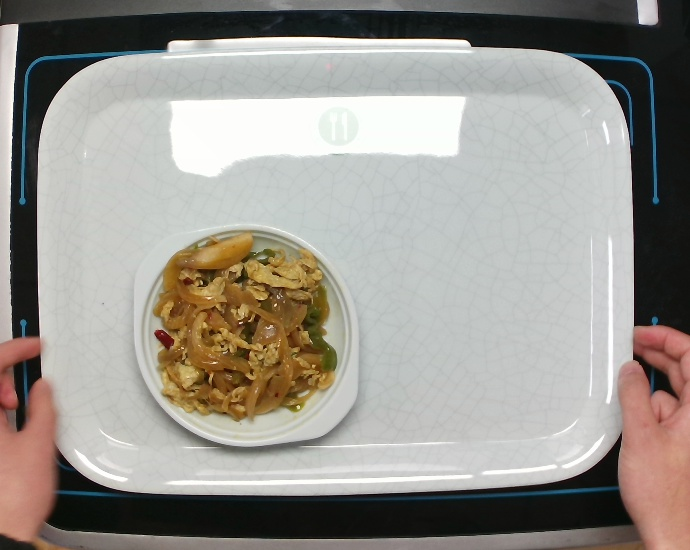JYsf-Shuang_Er_Pan: (112, 217, 388, 452)
